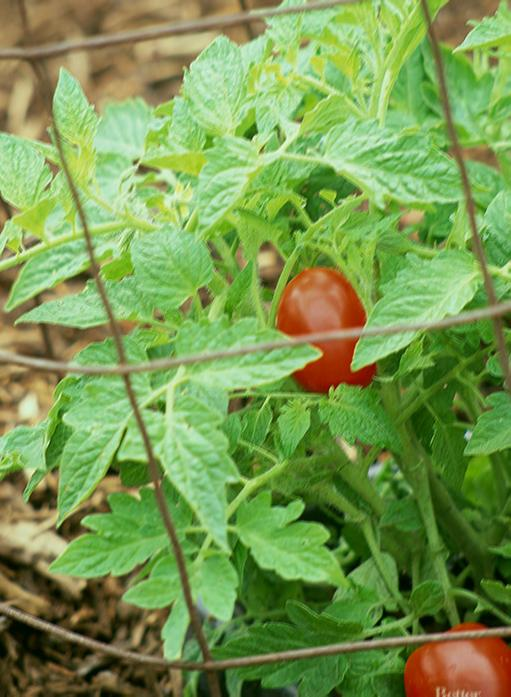Tomato leaf: (354, 241, 498, 368), (51, 374, 168, 529), (138, 388, 245, 544), (320, 125, 488, 216), (211, 607, 373, 695), (223, 496, 344, 596), (44, 487, 170, 581), (2, 220, 109, 314), (178, 35, 265, 140), (184, 326, 316, 391), (129, 220, 207, 314), (312, 381, 407, 455), (41, 68, 94, 163), (0, 132, 53, 211)
